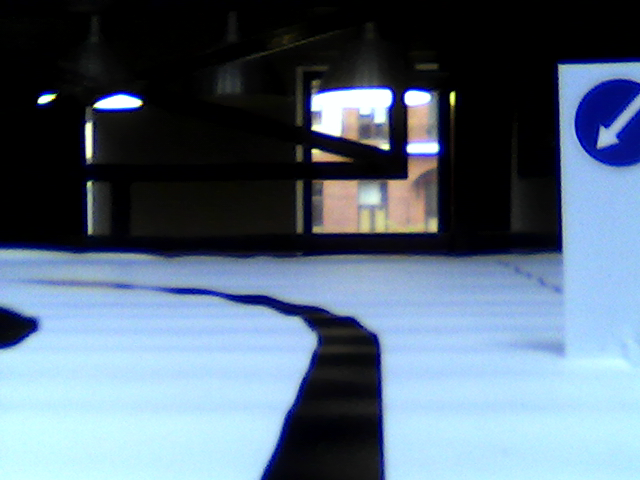prep: (574, 75, 640, 166)
